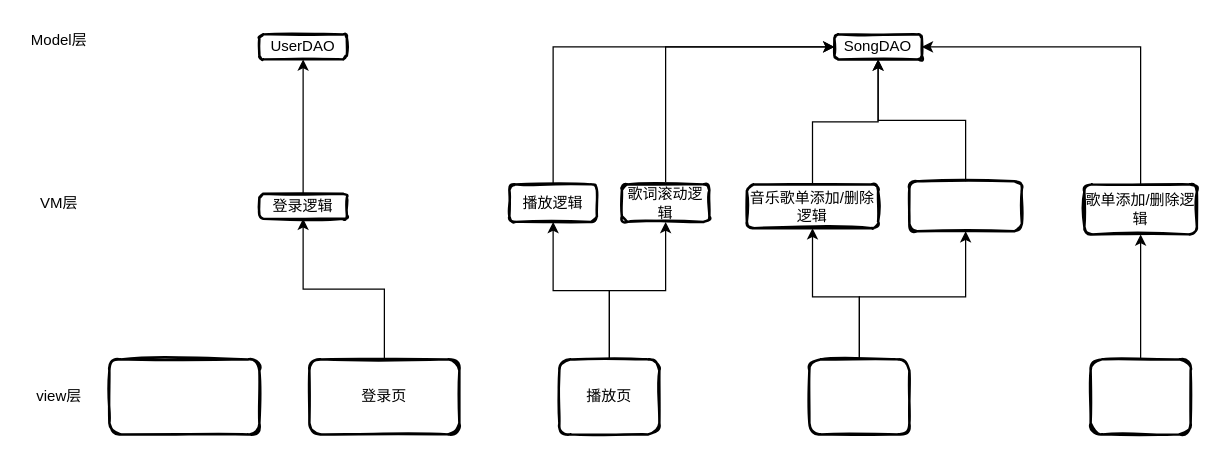
Some shapes in this 1219 by 456 pixel diagram are drawn without their labels. The shapes that lost their labels are listed below. From the top down, each one's centre as x and y in pixels, then its label:
At [965,205]: "歌曲搜索 探索逻辑".
At [184,396]: "加载页".
At [859,396]: "发现页".
At [1140,396]: "我的页".
